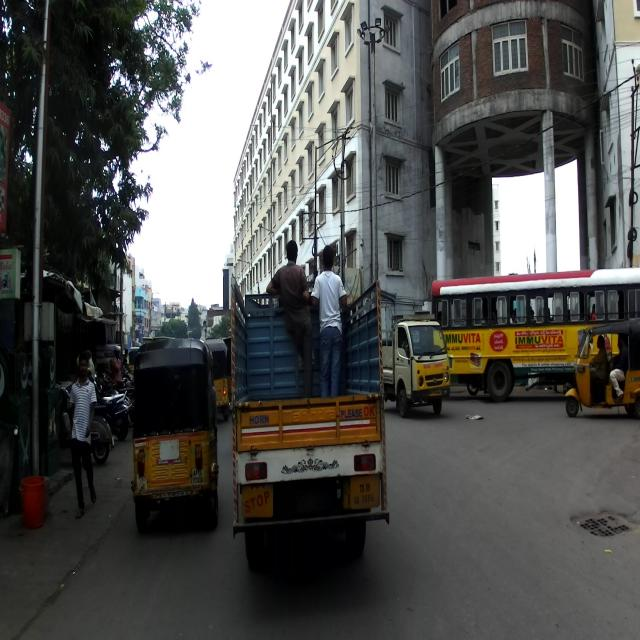autorickshaw: (130, 336, 218, 532), (564, 317, 639, 418)
bus: (431, 262, 637, 396)
scooter: (55, 386, 115, 463)
truck: (228, 277, 390, 563), (390, 308, 450, 421)
